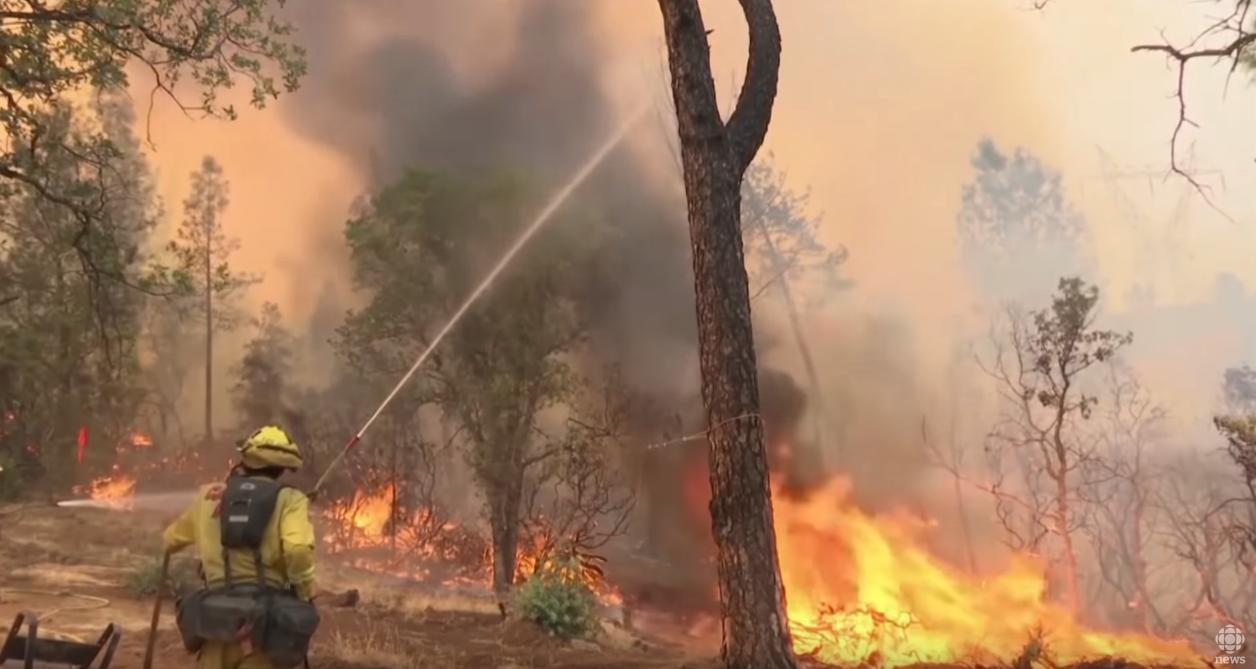Fire: (762, 466, 1206, 666), (328, 471, 629, 621), (81, 457, 145, 520), (129, 424, 154, 447)
